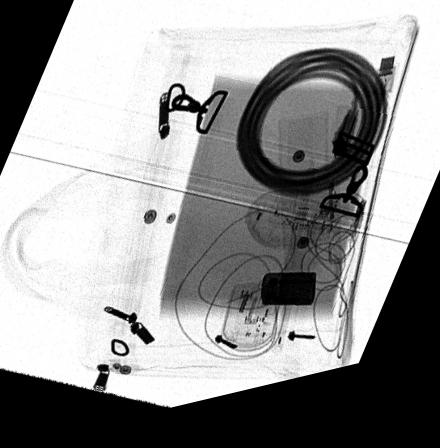Lighter: (258, 284, 316, 320)
